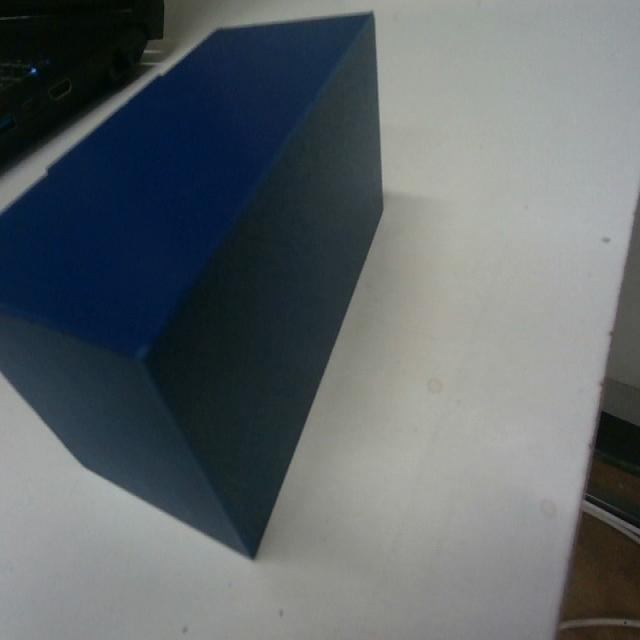Blue Cuboid: (0, 6, 386, 558)
